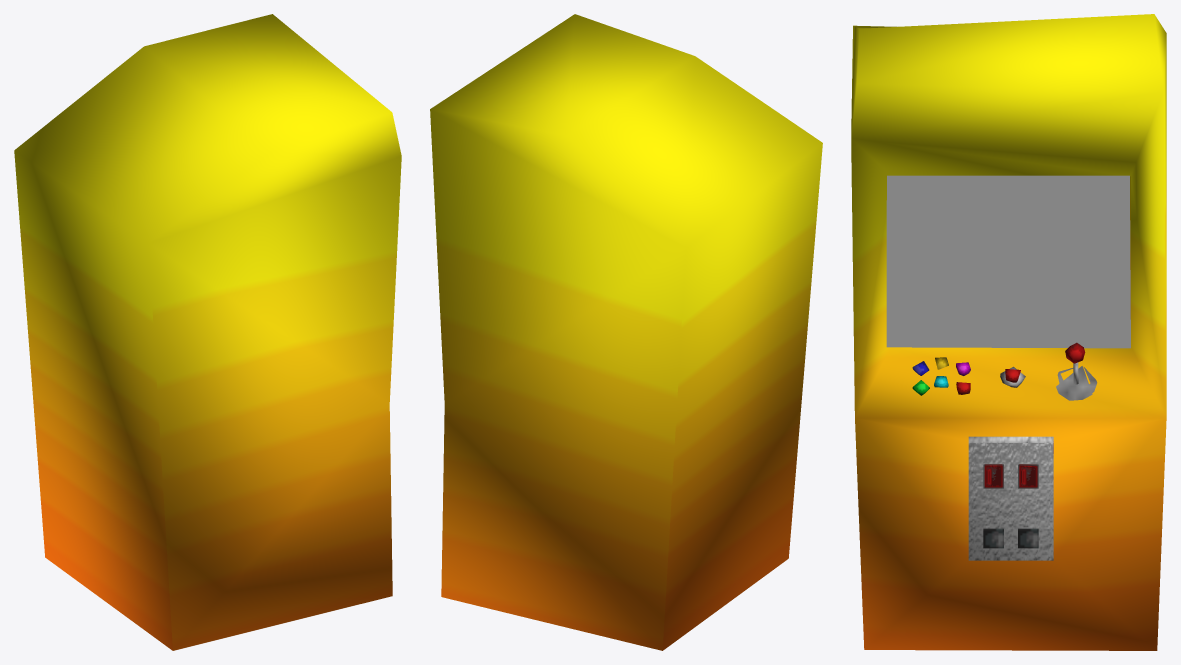
File: ArcadeCab.fbx
3 renders of one model, left to right at view 1: azimuth 30°, elevation 25°; view 2: azimuth 150°, elevation 25°; view 3: azimuth 270°, elevation 25°, orthographic. The views are drawn at different scales.
Parts seen in each view (by area): view 1: Cube; view 2: Cube; view 3: Cube, Cube.005, Cube.003, Icosphere.
Part boxes in pixels (box(x1,y1,x2,y2)): Cube: box(14, 14, 401, 650); Cube: box(430, 14, 822, 650); Cube: box(851, 14, 1166, 650); Cube.005: box(886, 175, 1130, 348); Cube.003: box(968, 436, 1053, 560); Icosphere: box(912, 342, 1097, 400).
Size of the model in its own units: 250 by 416 by 209.
